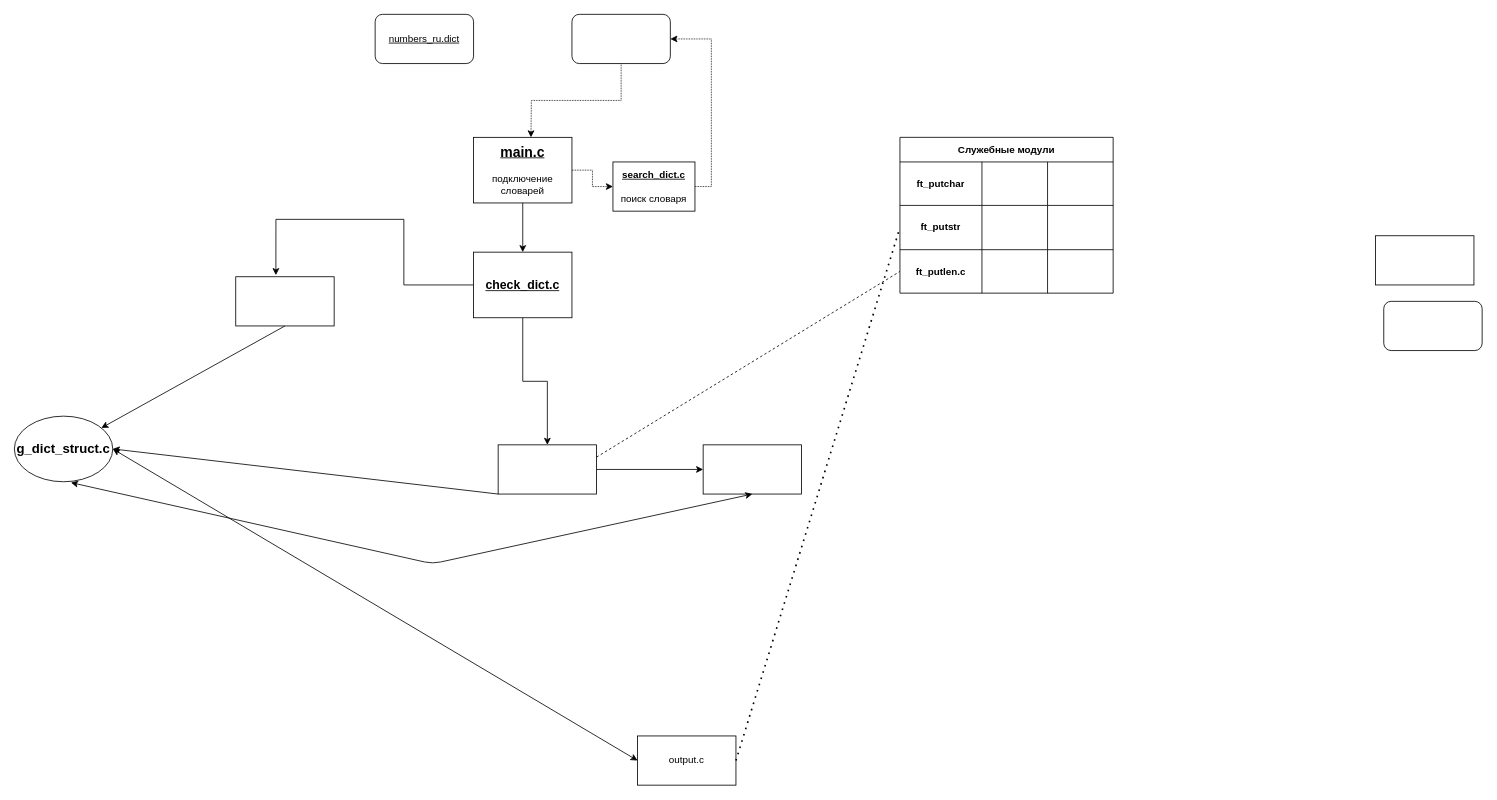
The diagram is 1497 pixels wide and 800 high, and some of its shapes have lost their labels. Here are the shapes that lost their labels. From the top down, the centre of each, then its label:
pixel 620 39: numbers.dict
pixel 284 301: gen_digit_struct.c
pixel 547 469: digit_break.c
pixel 752 469: check_digit.c
